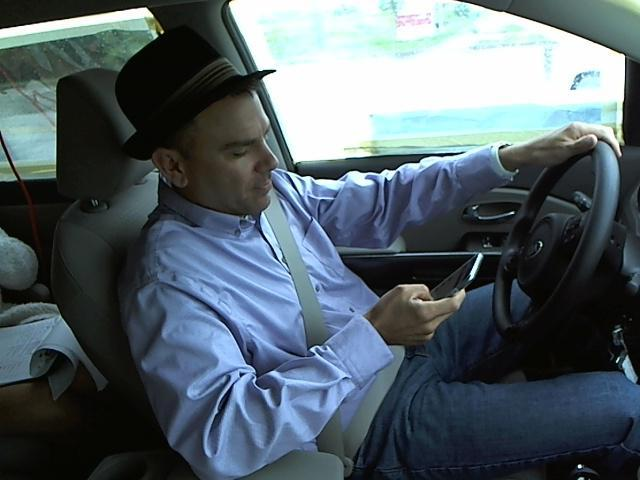PhoneUse: (410, 242, 498, 323)
